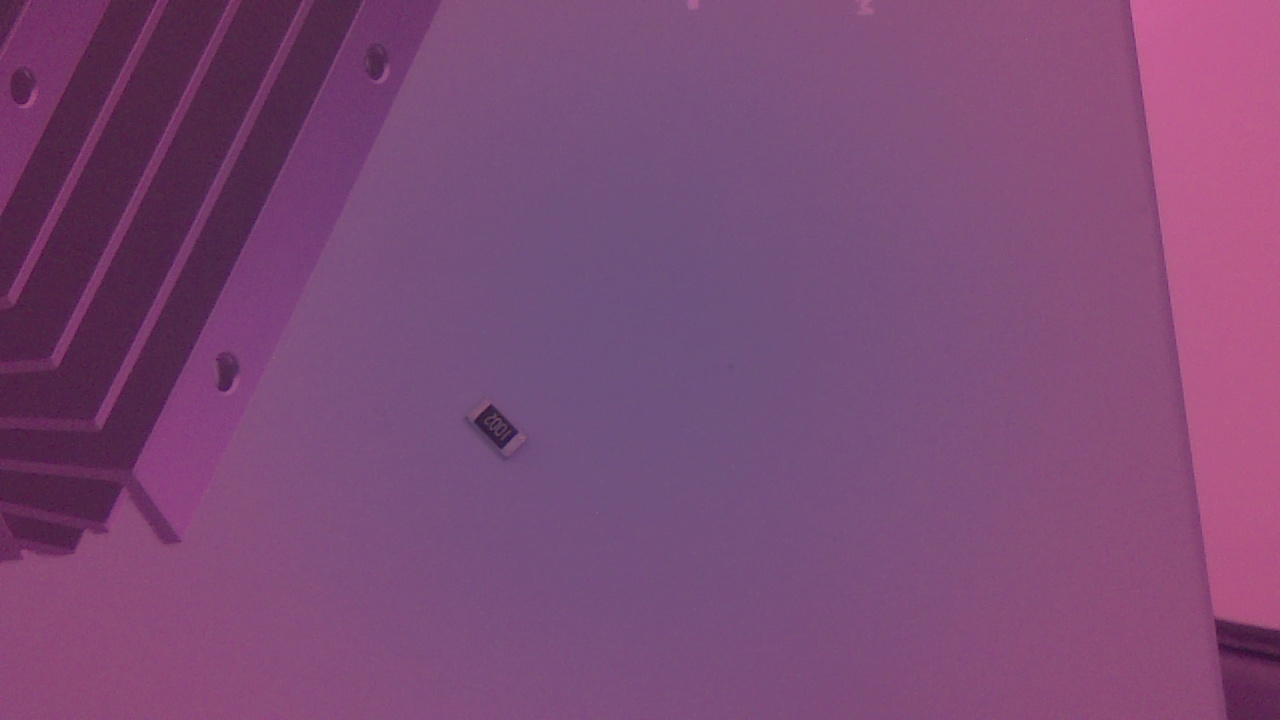Resistor: (466, 399, 539, 473)
